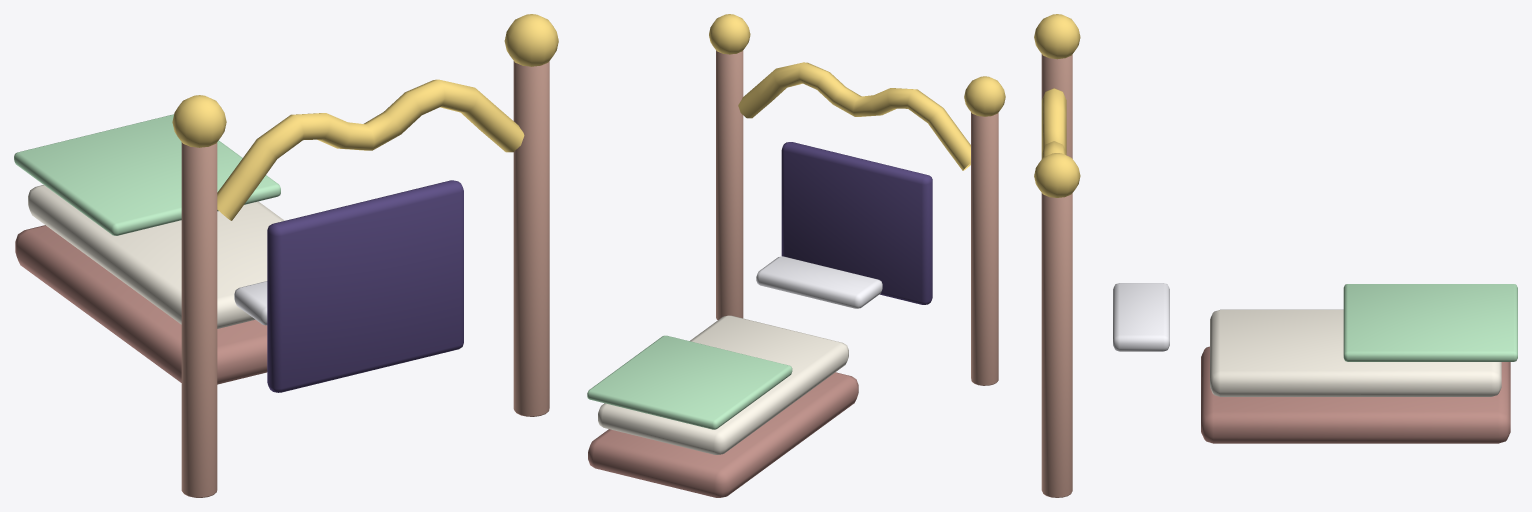
File: dream_bed_3.glb
The picture shows the model from 3 angles, left to right: view 1: azimuth 30°, elevation 25°; view 2: azimuth 150°, elevation 25°; view 3: azimuth 270°, elevation 25°; orthographic projection. The views are drawn at different scales.
Parts seen in each view (by area): view 1: HeadboardInk.004, Blanket.004, Mattress.004, HeadPost_-1.004, HeadPost_1.004, BedFrame.004, HeadboardCrown.004, PostPearl_-1.004, PostPearl_1.004, Pillow.004; view 2: HeadboardInk.004, BedFrame.004, Blanket.004, Mattress.004, HeadPost_-1.004, HeadPost_1.004, HeadboardCrown.004, Pillow.004, PostPearl_-1.004, PostPearl_1.004; view 3: Mattress.004, BedFrame.004, Blanket.004, HeadPost_1.004, Pillow.004, PostPearl_-1.004, PostPearl_1.004, HeadboardCrown.004, HeadPost_-1.004.
Boxes of the visible parts, x1,y1,x2,y2 form: HeadboardInk.004: (267,180,463,392); Blanket.004: (14,114,280,235); Mattress.004: (28,185,284,328); HeadPost_-1.004: (181,142,217,497); HeadPost_1.004: (513,61,549,416); BedFrame.004: (15,225,267,384); HeadboardCrown.004: (217,79,524,220); PostPearl_-1.004: (172,95,226,147); PostPearl_1.004: (504,14,558,66); Pillow.004: (234,281,267,325); HeadboardInk.004: (781,142,932,304); BedFrame.004: (588,372,858,497); Blanket.004: (587,335,792,429); Mattress.004: (598,315,848,454); HeadPost_-1.004: (971,112,998,385); HeadPost_1.004: (716,50,743,319); HeadboardCrown.004: (738,62,970,170); Pillow.004: (756,256,882,308); PostPearl_-1.004: (964,76,1005,116); PostPearl_1.004: (709,14,750,54); Mattress.004: (1210,309,1501,396); BedFrame.004: (1201,346,1510,443); Blanket.004: (1343,284,1517,361); HeadPost_1.004: (1041,193,1072,497); Pillow.004: (1113,283,1169,351); PostPearl_-1.004: (1034,14,1080,59); PostPearl_1.004: (1034,153,1080,197); HeadboardCrown.004: (1041,88,1066,158); HeadPost_-1.004: (1041,54,1072,158).
Bounding box in the file's own units: 7.26 × 7.2 × 9.37.
